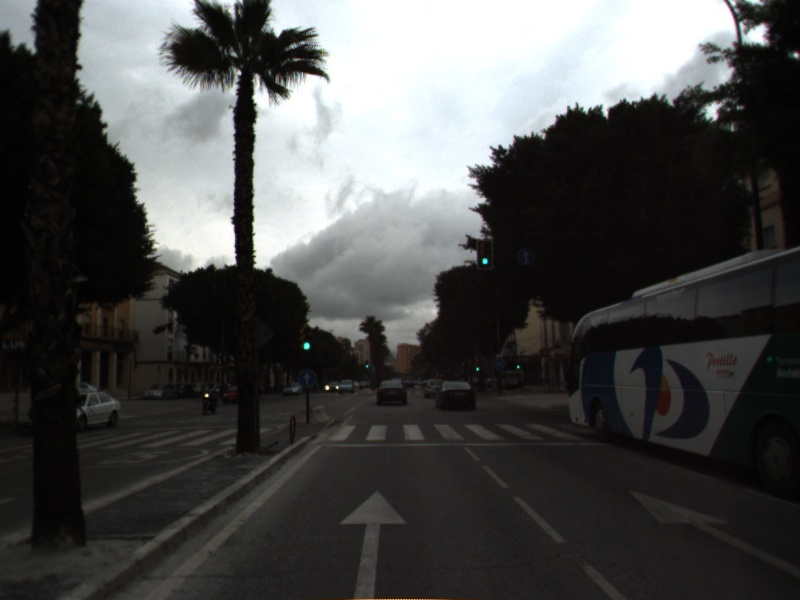STRAIGHT: (624, 484, 800, 579), (336, 486, 410, 600)
